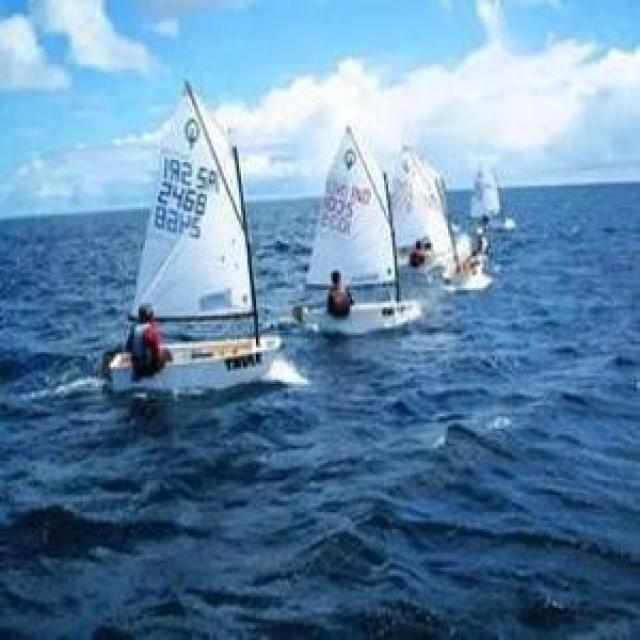sailboat: (99, 81, 285, 388), (304, 125, 420, 335), (417, 159, 494, 291), (386, 142, 434, 265), (462, 153, 516, 233)
